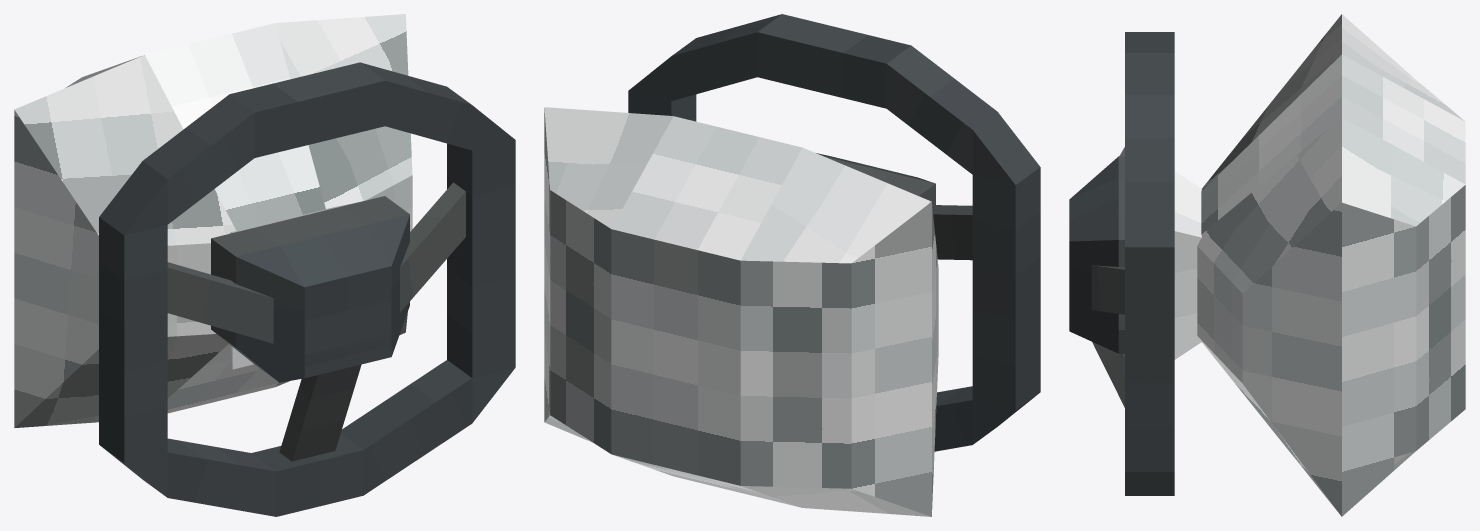
File: steeringwheel_airbag.obj
3 renders of one model, left to right at view 1: azimuth 30°, elevation 25°; view 2: azimuth 150°, elevation 25°; view 3: azimuth 270°, elevation 25°, orthographic.
Parts seen in each view (by area): view 1: steeringwheel, airbag; view 2: airbag, steeringwheel; view 3: airbag, steeringwheel, airbag_base.
Part boxes in pixels (box(x1,y1,x2,y2)): steeringwheel: box(99, 62, 515, 516); airbag: box(14, 14, 412, 427); airbag: box(544, 107, 938, 516); steeringwheel: box(628, 14, 1040, 451); airbag: box(1197, 14, 1465, 516); steeringwheel: box(1069, 32, 1174, 495); airbag_base: box(1174, 171, 1201, 359).
Size of the model in its own units: 0.5625 by 0.5625 by 0.5.
